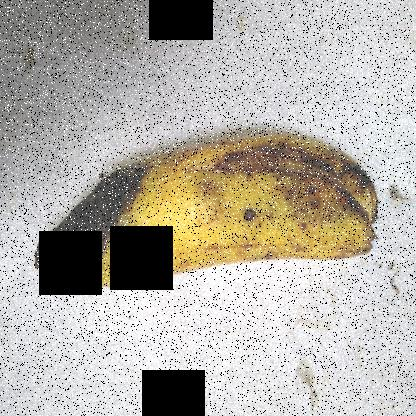rotten: (178, 112, 388, 262), (35, 131, 166, 327)
